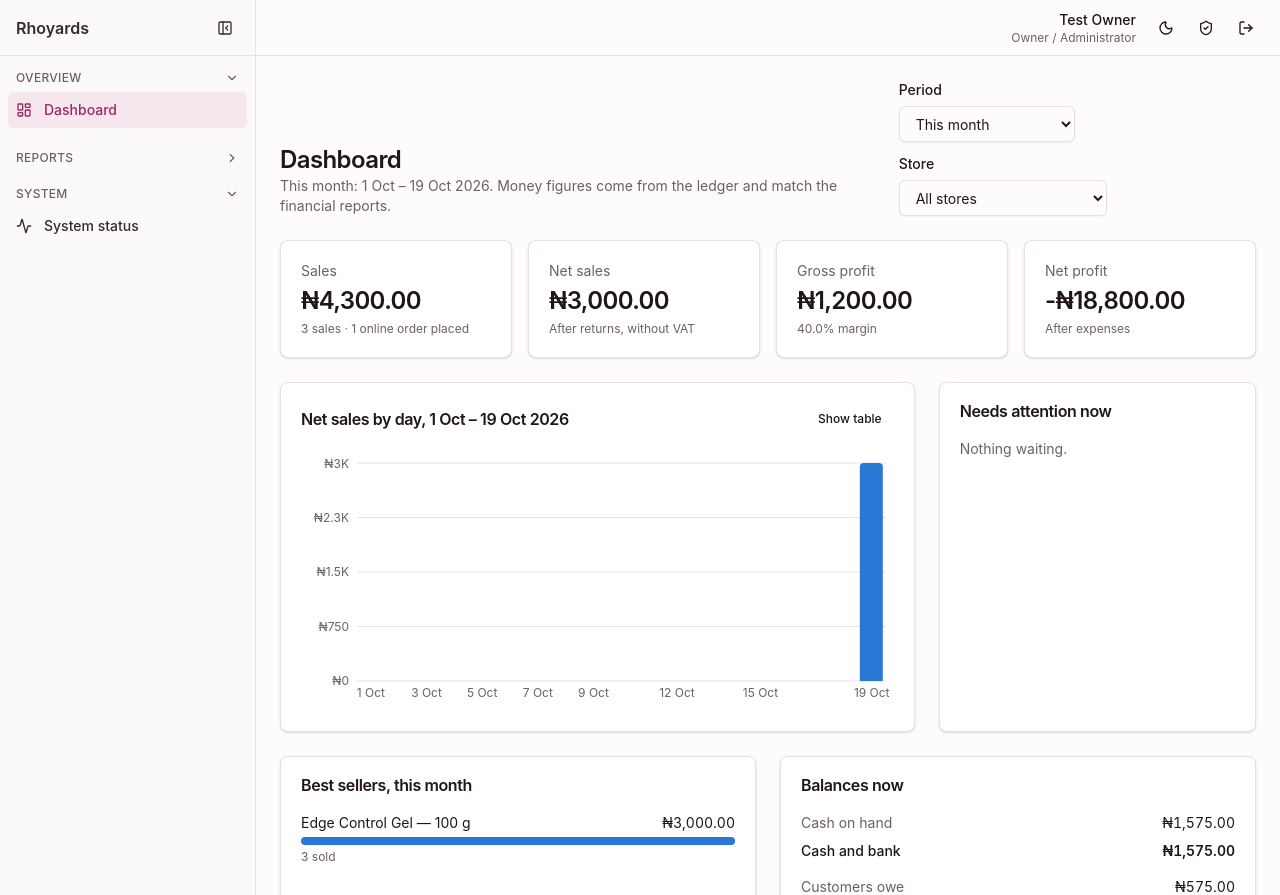
Test case: dashboard › switches to one store: its figures, no net profit, balances marked as business-wide
Step 1. Select "Ikeja Store" in the dropdown labelled "Store" → (1003, 198), box 899,180 -> 1107,216
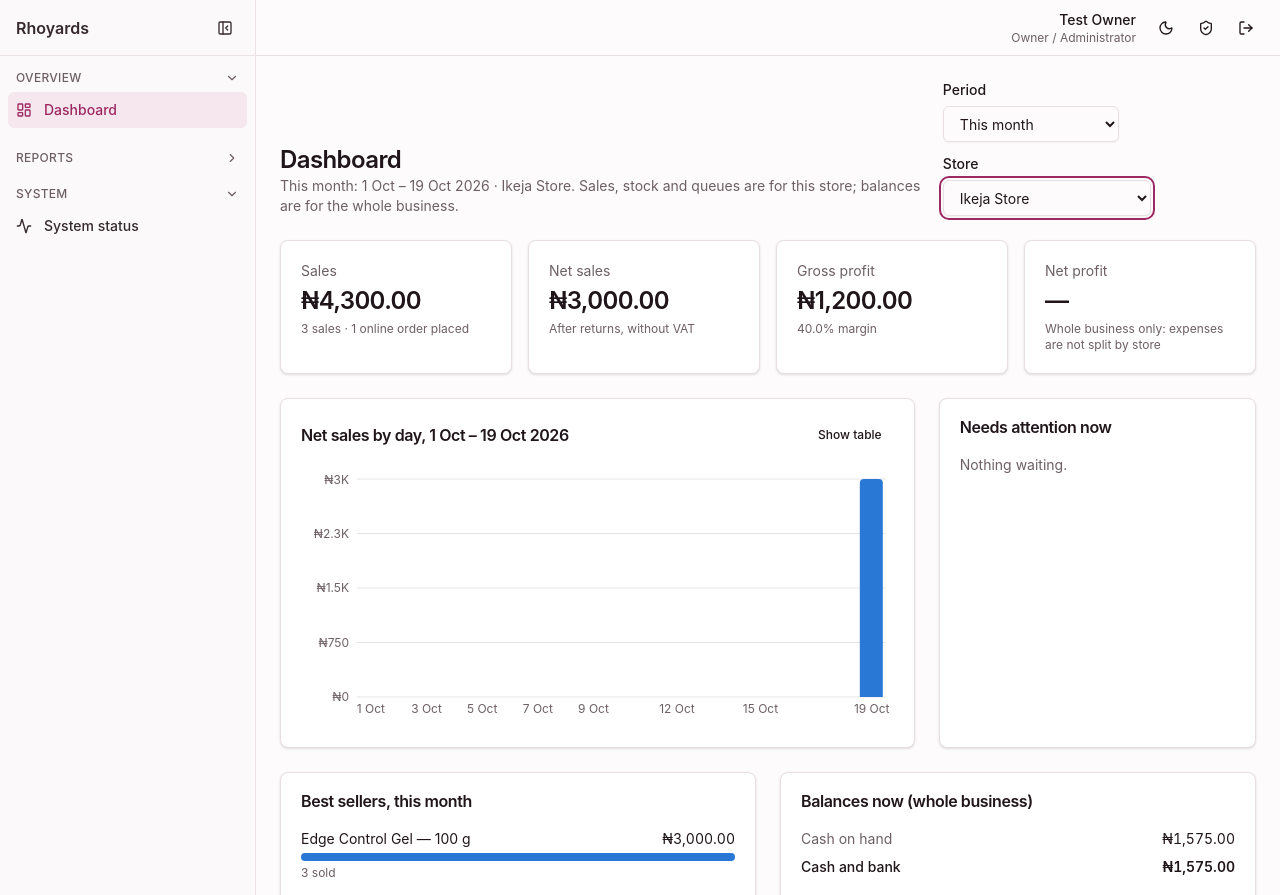
Now the text "Whole business only: expenses are not split by store" is shown, box 1045,321 -> 1235,353
Now the heading "Balances now (whole business)" is shown, box 801,791 -> 1033,811
